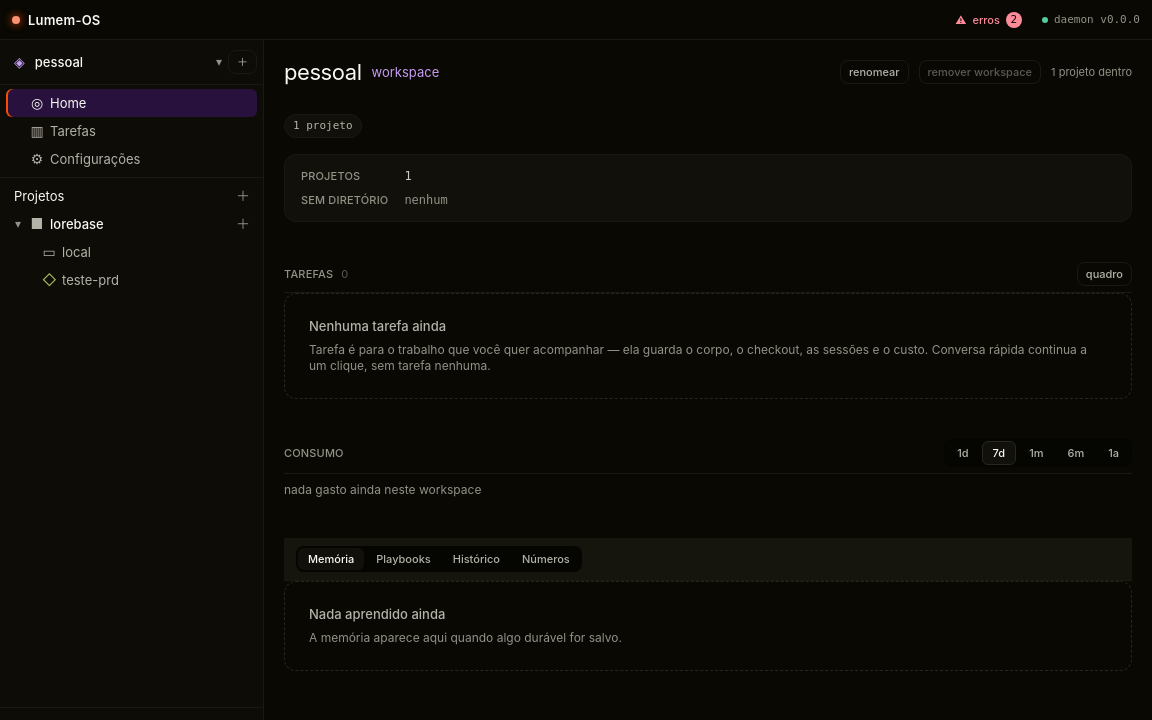
o caminho de volta (W7, T8) › da worktree, dá para voltar ao projeto — o mesmo beco um nível abaixo
Click the button "■ lorebase" at (128, 224), box [26, 210, 231, 238]
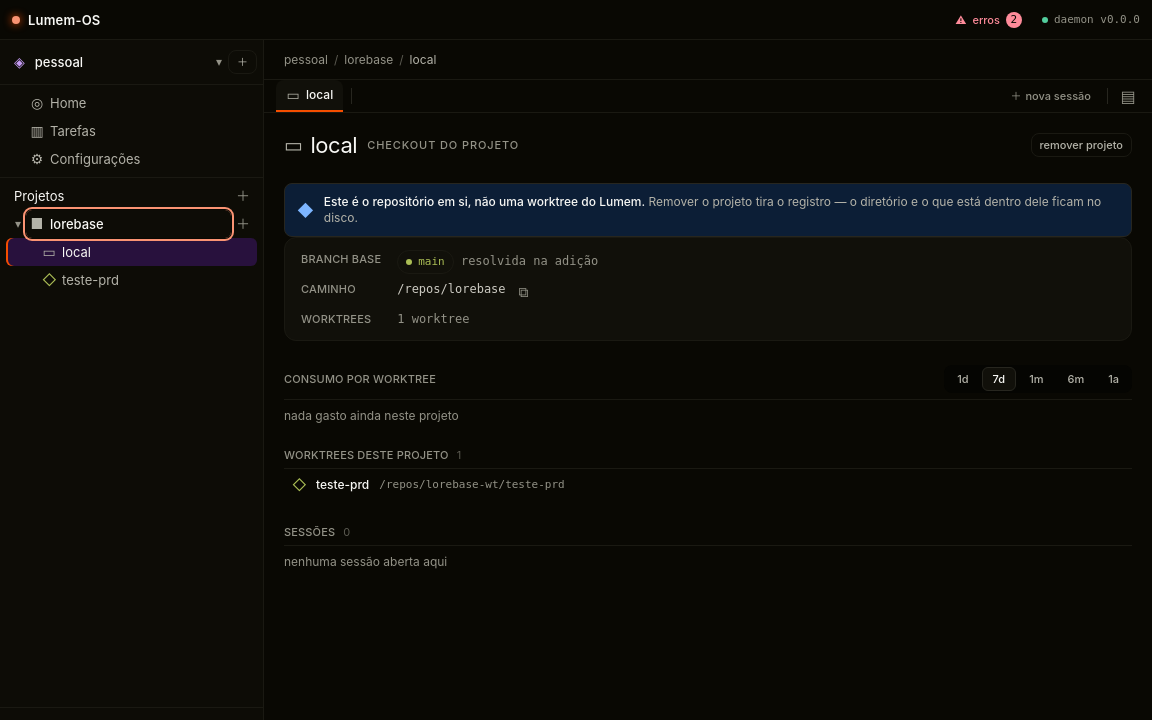
Click the button "◇ teste-prd" at (148, 280), box [38, 266, 257, 294]
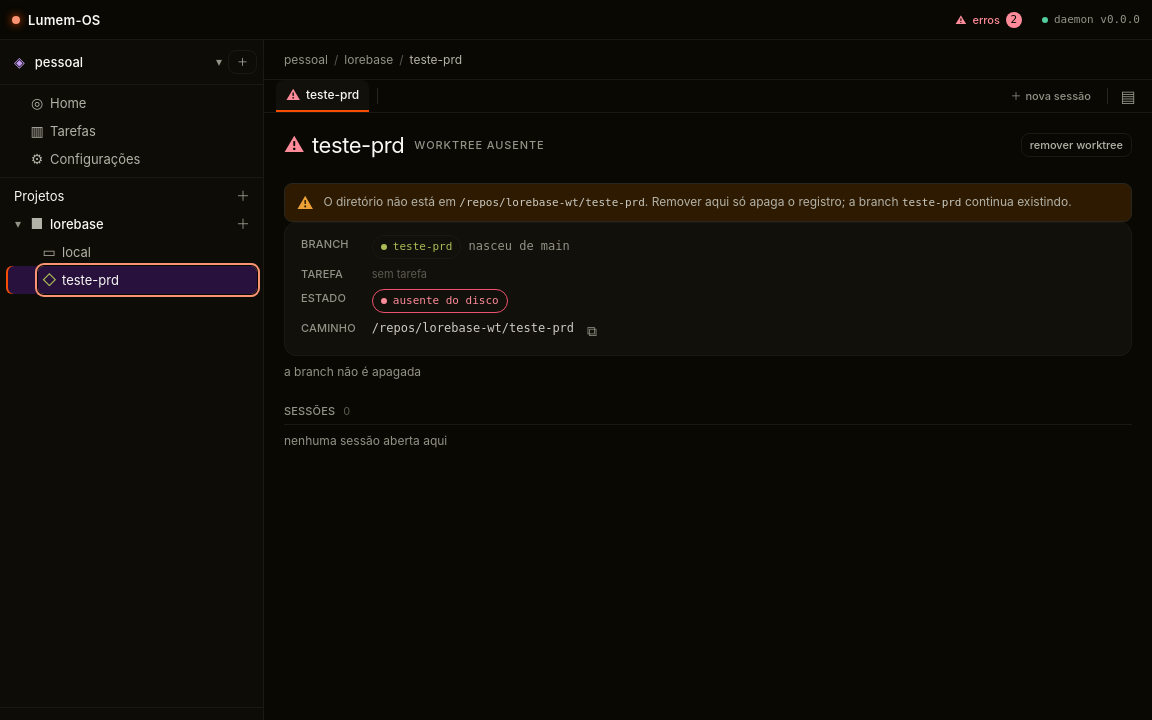
Expected: the heading "⚠ teste-prd" is shown, [284, 131, 404, 159]
Click the button "lorebase" at (369, 60), box [344, 48, 393, 72]
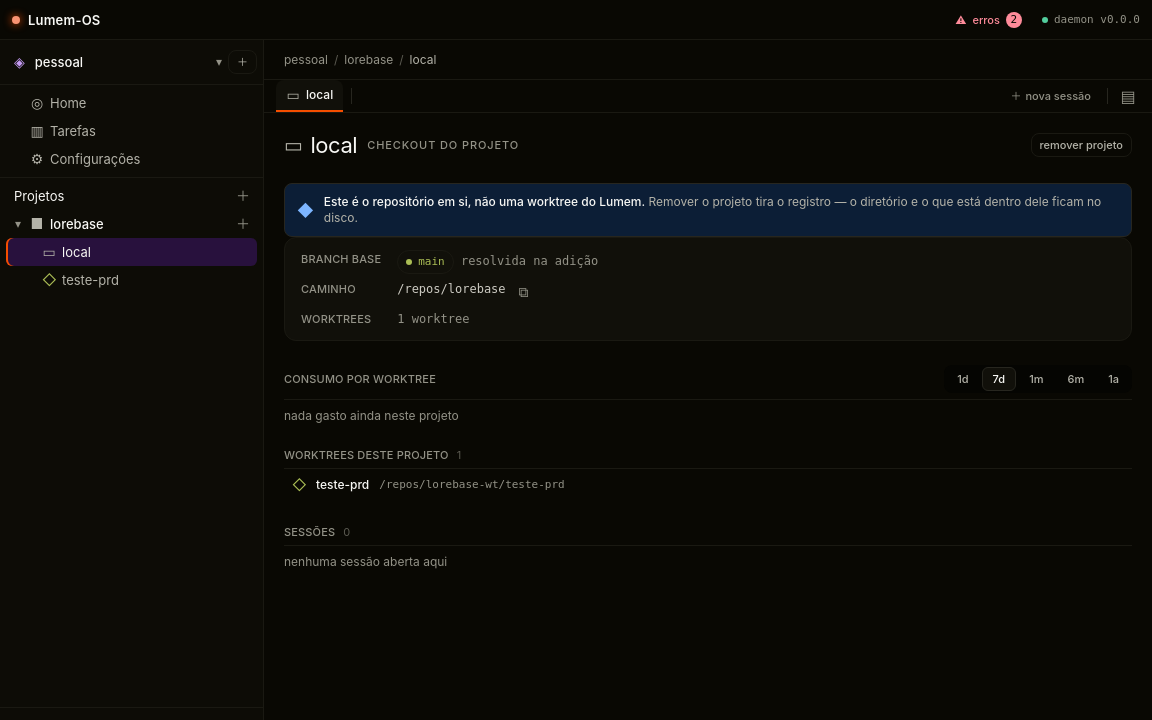
Expected: the heading "▭ local" is shown, [284, 131, 357, 159]
